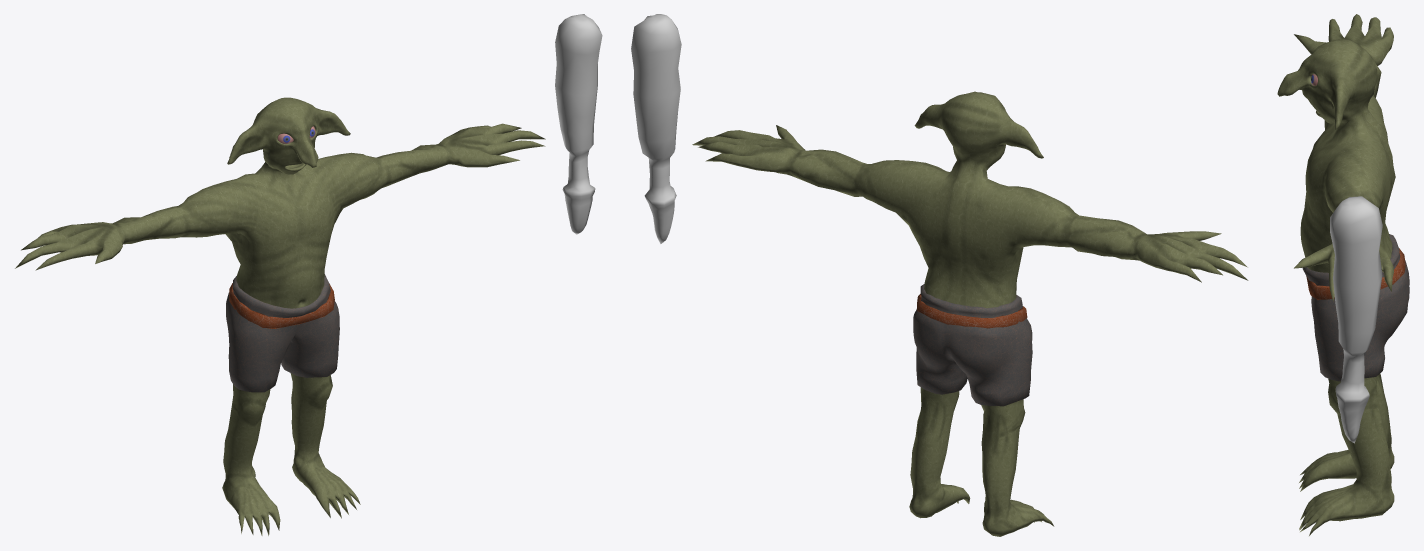
The model's file is goblin.fbx.
3 views of the same model, side by side, from view 1: azimuth 30°, elevation 25°; view 2: azimuth 150°, elevation 25°; view 3: azimuth 270°, elevation 25° (orthographic). The views are drawn at different scales.
Visible parts, largest first — view 1: polySurface1, polySurface2, WeaponLow, polySurface3; view 2: polySurface1, polySurface2, WeaponLow, polySurface3; view 3: polySurface1, WeaponLow, polySurface2, polySurface3.
Part boxes in pixels (box(x1,y1,x2,y2)): polySurface1: box(15, 97, 545, 535); polySurface2: box(226, 274, 339, 392); WeaponLow: box(555, 14, 602, 234); polySurface3: box(229, 283, 334, 328); polySurface1: box(692, 91, 1248, 536); polySurface2: box(913, 284, 1032, 406); WeaponLow: box(631, 14, 681, 243); polySurface3: box(917, 293, 1027, 328); polySurface1: box(1277, 14, 1395, 535); WeaponLow: box(1330, 196, 1382, 443); polySurface2: box(1302, 234, 1409, 381); polySurface3: box(1306, 248, 1405, 299).
Bounding box in the file's own units: 25.92 × 17.8 × 4.51.
